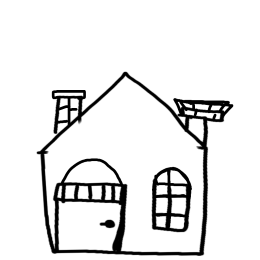bottom_placed_house: (1, 1, 260, 260)
chimney: (168, 82, 240, 151), (47, 80, 98, 135)
closed_window: (146, 160, 192, 236)
door: (50, 150, 132, 260)
single_line_roof: (26, 55, 238, 160)
wall: (32, 137, 211, 257)
